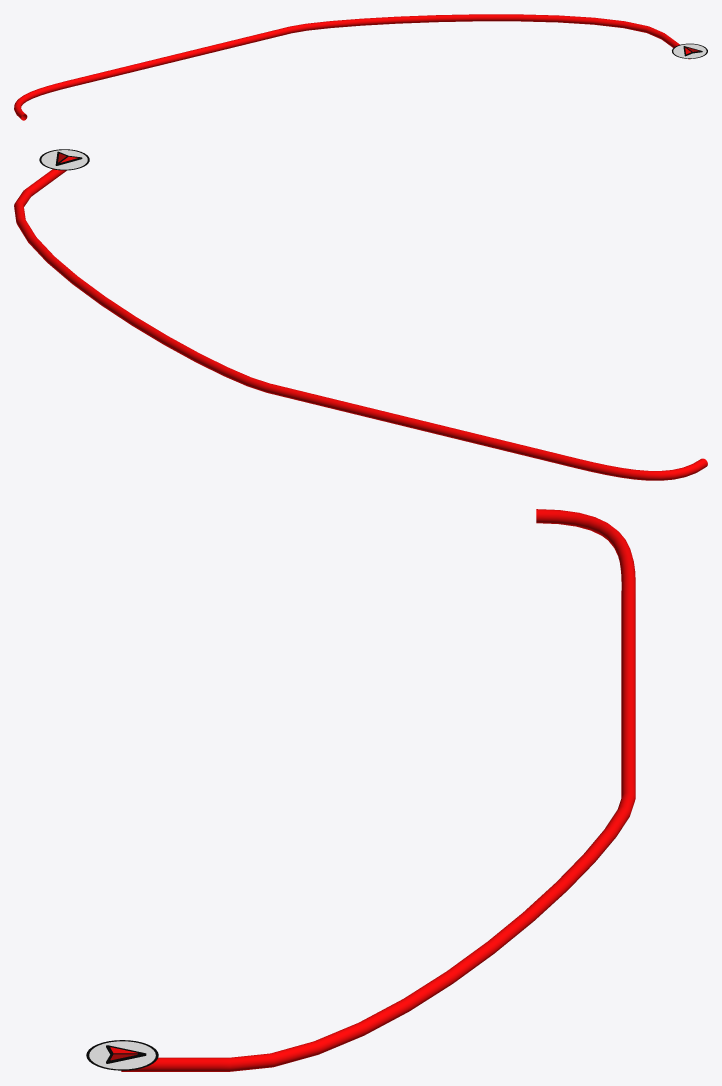
The model's file is route_42fc8d4c-8270-426f-b4d6-b0aa54435f72_de_target.glb.
The picture shows the model from 3 angles, top to bottom: view 1: azimuth 30°, elevation 25°; view 2: azimuth 150°, elevation 25°; view 3: azimuth 270°, elevation 25°; orthographic projection. The views are drawn at different scales.
Parts seen in each view (by area): view 1: OP und Aufwachraum, Navipfeil.011; view 2: OP und Aufwachraum, Navipfeil.011; view 3: OP und Aufwachraum, Navipfeil.011.
Part boxes in pixels (x1,y1,x2,y2): OP und Aufwachraum: (14,14,690,120); Navipfeil.011: (672,43,707,58); OP und Aufwachraum: (14,169,707,480); Navipfeil.011: (39,149,89,170); OP und Aufwachraum: (121,509,635,1071); Navipfeil.011: (86,1040,158,1070).
Bounding box in the file's own units: 7.56 × 0.1086 × 3.1.
